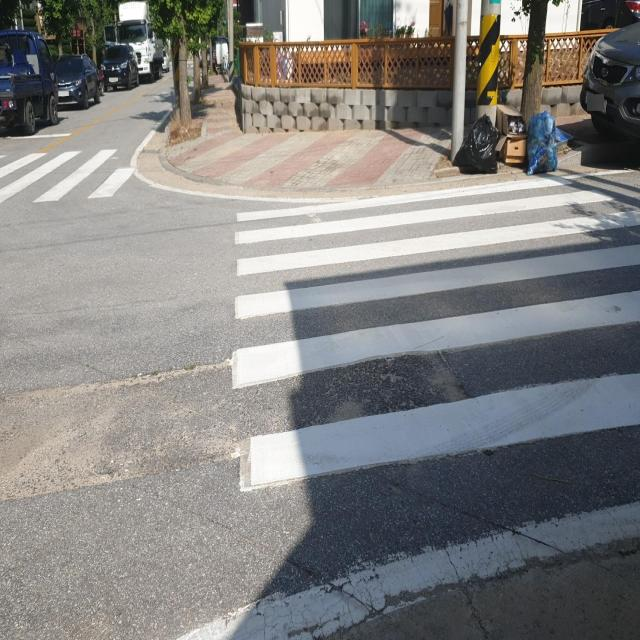횡단보도: (229, 169, 640, 498), (0, 146, 145, 211)
